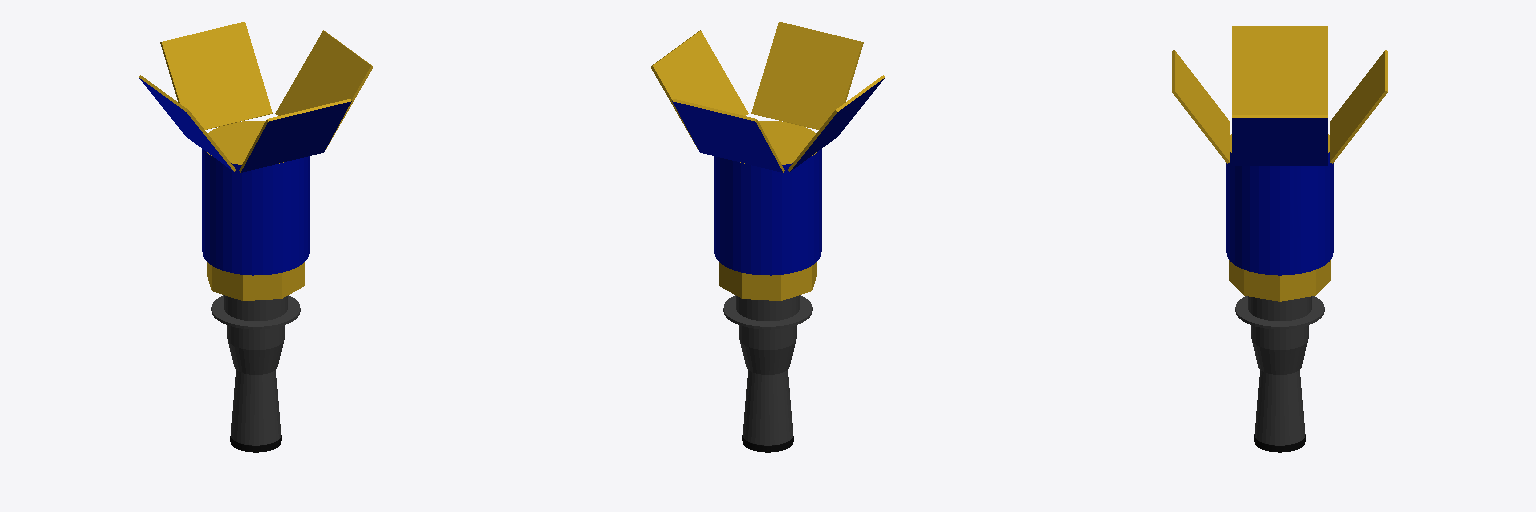
File: dsp.obj
3 renders of one model, left to right at view 1: azimuth 30°, elevation 25°; view 2: azimuth 150°, elevation 25°; view 3: azimuth 270°, elevation 25°, orthographic.
Parts seen in each view (by area): view 1: DSP, Cube.001, Cube, Cube.003, Cylinder.006, Cylinder.001, Cube.002, Cylinder.002, Cylinder.005, Cylinder.004, Cylinder.003; view 2: DSP, Cube.003, Cube, Cube.001, Cylinder.006, Cylinder.001, Cube.002, Cylinder.002, Cylinder.005, Cylinder.004, Cylinder.003; view 3: DSP, Cube.002, Cube, Cylinder.006, Cube.001, Cube.003, Cylinder.001, Cylinder.002, Cylinder.005, Cylinder.004, Cylinder.003.
Boxes of the visible parts, box(x1,y1,x2,y2) form: DSP: box(202, 121, 309, 275); Cube.001: box(160, 22, 272, 129); Cube: box(275, 30, 372, 148); Cube.003: box(239, 99, 351, 172); Cylinder.006: box(231, 370, 280, 445); Cylinder.001: box(207, 262, 304, 300); Cube.002: box(139, 75, 235, 171); Cylinder.002: box(224, 295, 287, 320); Cylinder.005: box(228, 339, 284, 374); Cylinder.004: box(227, 325, 284, 349); Cylinder.003: box(211, 295, 300, 329); DSP: box(714, 121, 821, 275); Cube.003: box(751, 22, 863, 129); Cube: box(651, 30, 748, 148); Cube.001: box(672, 99, 784, 172); Cylinder.006: box(743, 370, 792, 445); Cylinder.001: box(719, 262, 816, 300); Cube.002: box(788, 75, 884, 171); Cylinder.002: box(736, 295, 799, 320); Cylinder.005: box(739, 339, 795, 374); Cylinder.004: box(739, 325, 796, 349); Cylinder.003: box(723, 295, 812, 329); DSP: box(1226, 134, 1333, 275); Cube.002: box(1232, 26, 1327, 114); Cube: box(1232, 115, 1327, 165); Cylinder.006: box(1254, 370, 1305, 445); Cube.001: box(1330, 50, 1387, 163); Cube.003: box(1172, 50, 1229, 163); Cylinder.001: box(1229, 260, 1330, 301); Cylinder.002: box(1248, 296, 1311, 320); Cylinder.005: box(1252, 341, 1307, 374); Cylinder.004: box(1251, 325, 1308, 349); Cylinder.003: box(1235, 296, 1324, 329).
Size of the model in its own units: 0.4922 by 0.9336 by 0.4922.